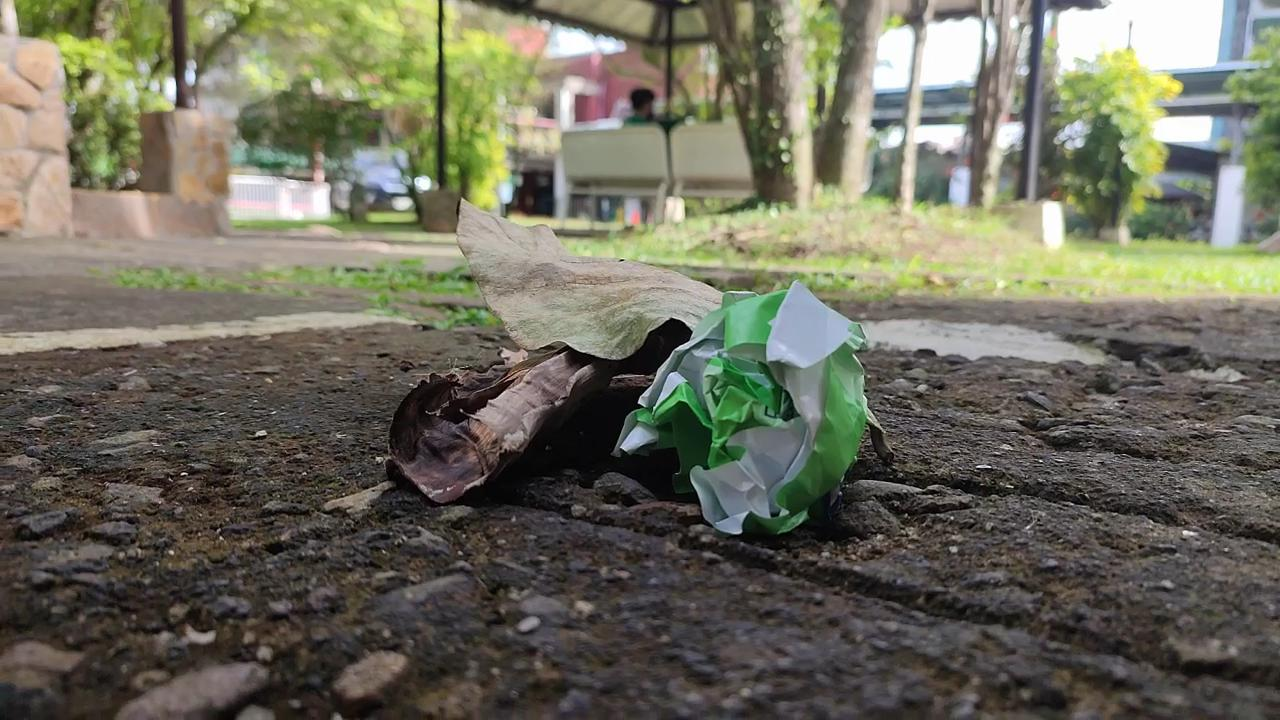Paper: (612, 278, 875, 545)
